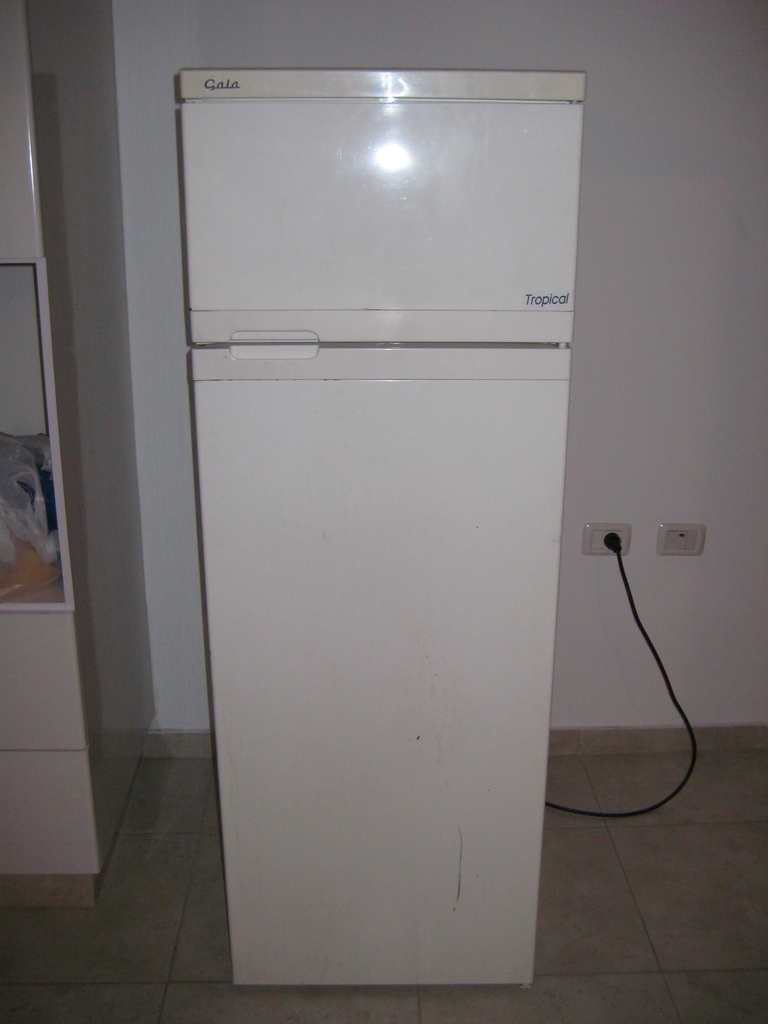handle: (218, 329, 322, 373)
refrigerator door: (190, 340, 565, 997), (179, 71, 579, 347)
